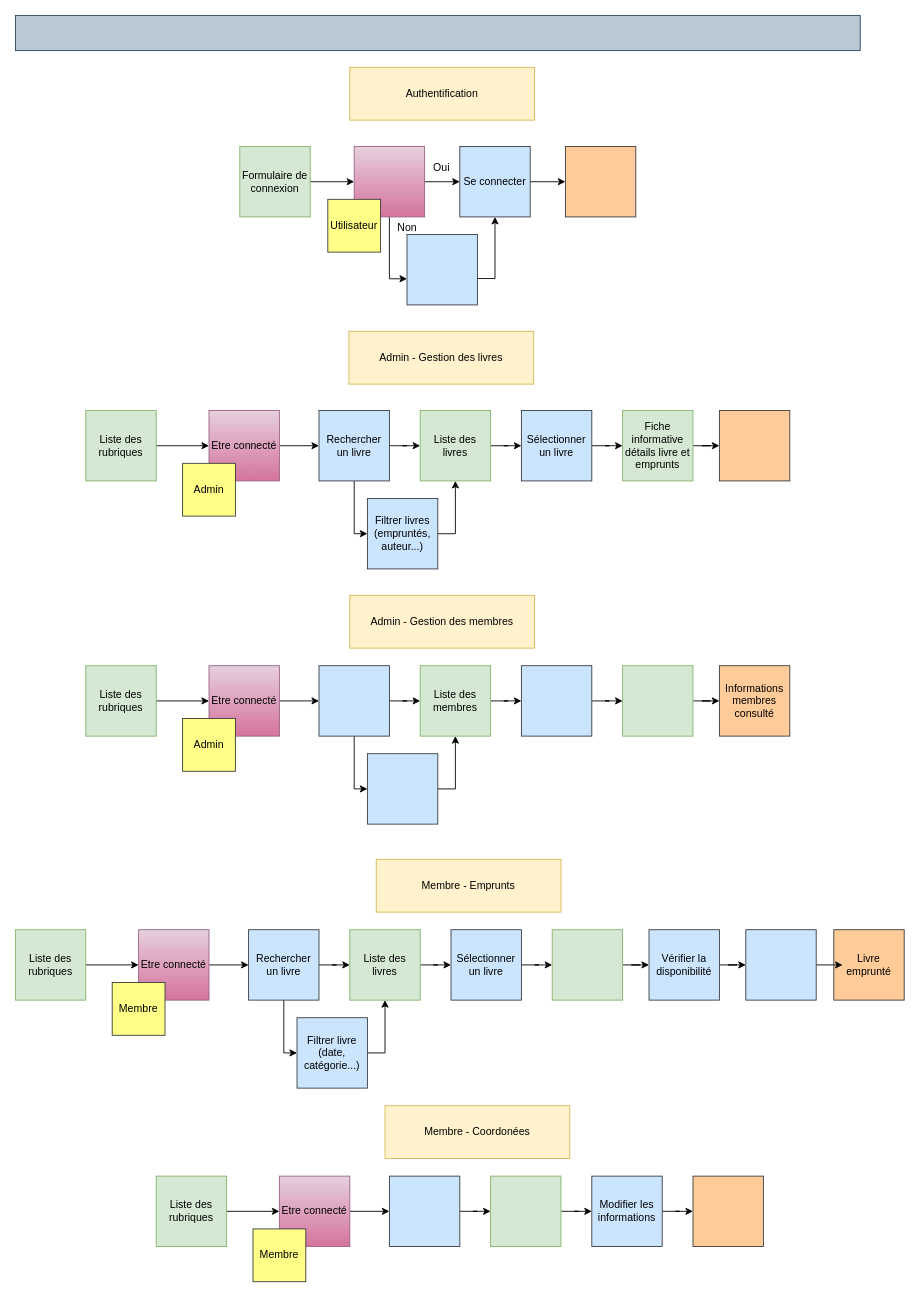
Some shapes in this 920 by 1297 pixel diagram are drawn without their labels. The centre of each missing label's shape, as x and y in pixels:
"Authentification effectuée" belongs at point (600, 181).
"Consulter profile" belongs at point (424, 1211).
"Emprunter le livre" belongs at point (780, 964).
"Etre membre ou admin ?" belongs at point (389, 181).
"Event Storming Bibliotheque" belongs at point (437, 33).
"Fiche informative coordonnées membres et emprunts" belongs at point (657, 700).
"Fiche informative détails du livre" belongs at point (587, 964).
"Filtrer membres (date, nom...)" belongs at point (402, 788).
"Informations du profile" belongs at point (525, 1211).
"Informations livre consulté" belongs at point (754, 445).
"Informations modifiées" belongs at point (727, 1211).
"Rechercher un membre" belongs at point (353, 700).
"S'inscrire" belongs at point (441, 269).
"Sélectionner un membre" belongs at point (556, 700).
